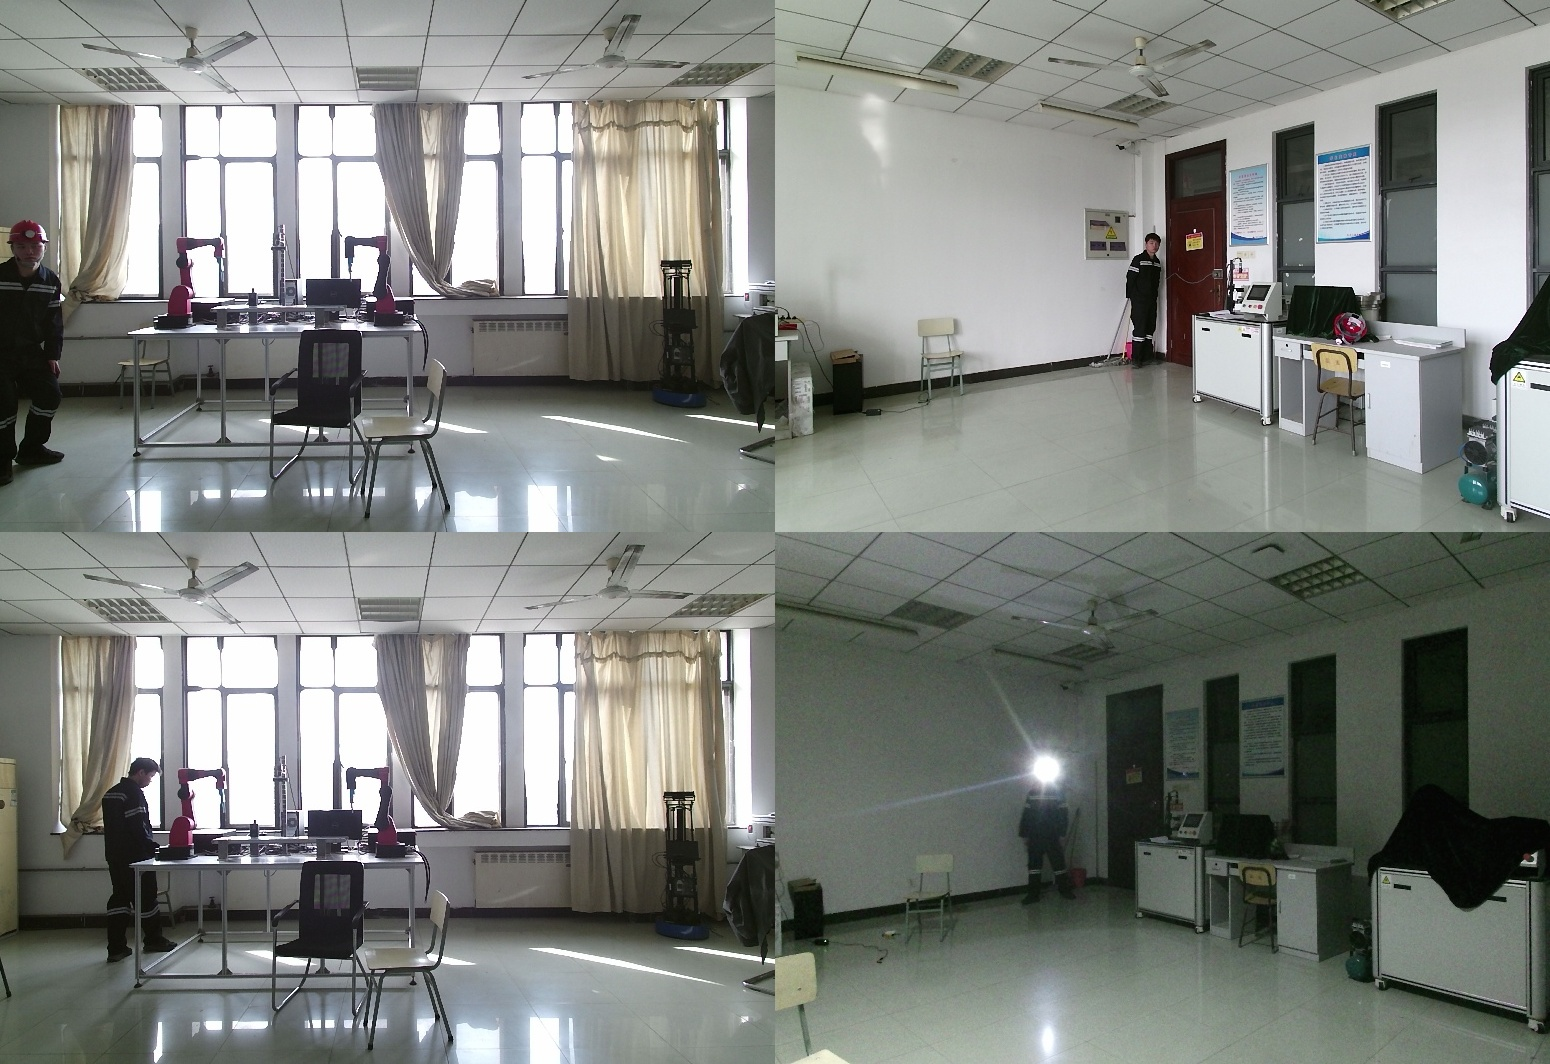person: (2, 224, 79, 481), (94, 757, 177, 963), (1022, 765, 1076, 904), (1125, 233, 1163, 372)
